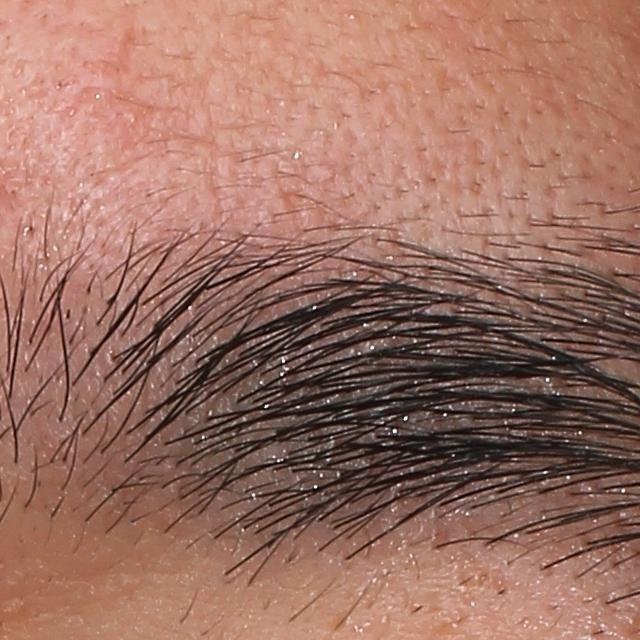atrophic_scar: (83, 26, 142, 85), (119, 92, 179, 148), (432, 64, 476, 110)
